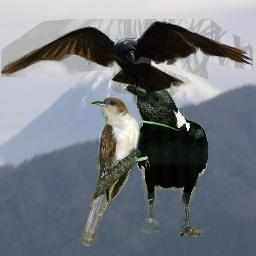Crow: (1, 19, 253, 106), (122, 81, 208, 237)
Cuckoo: (81, 97, 141, 246)
